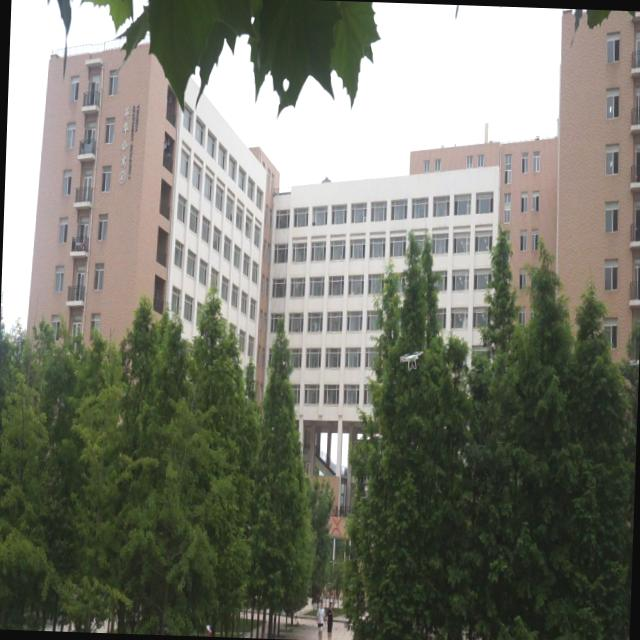drone: (398, 346, 424, 374)
